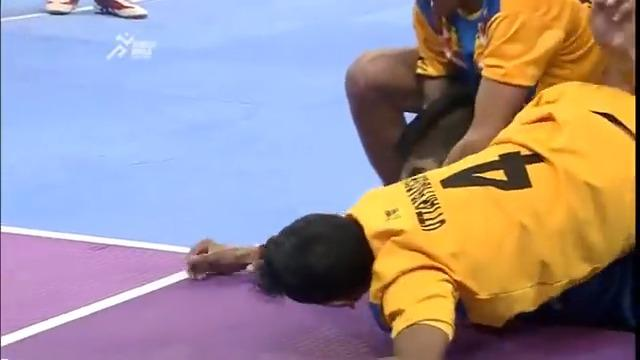Player: (183, 77, 636, 358), (343, 0, 634, 184)
referee: (392, 0, 492, 177)
